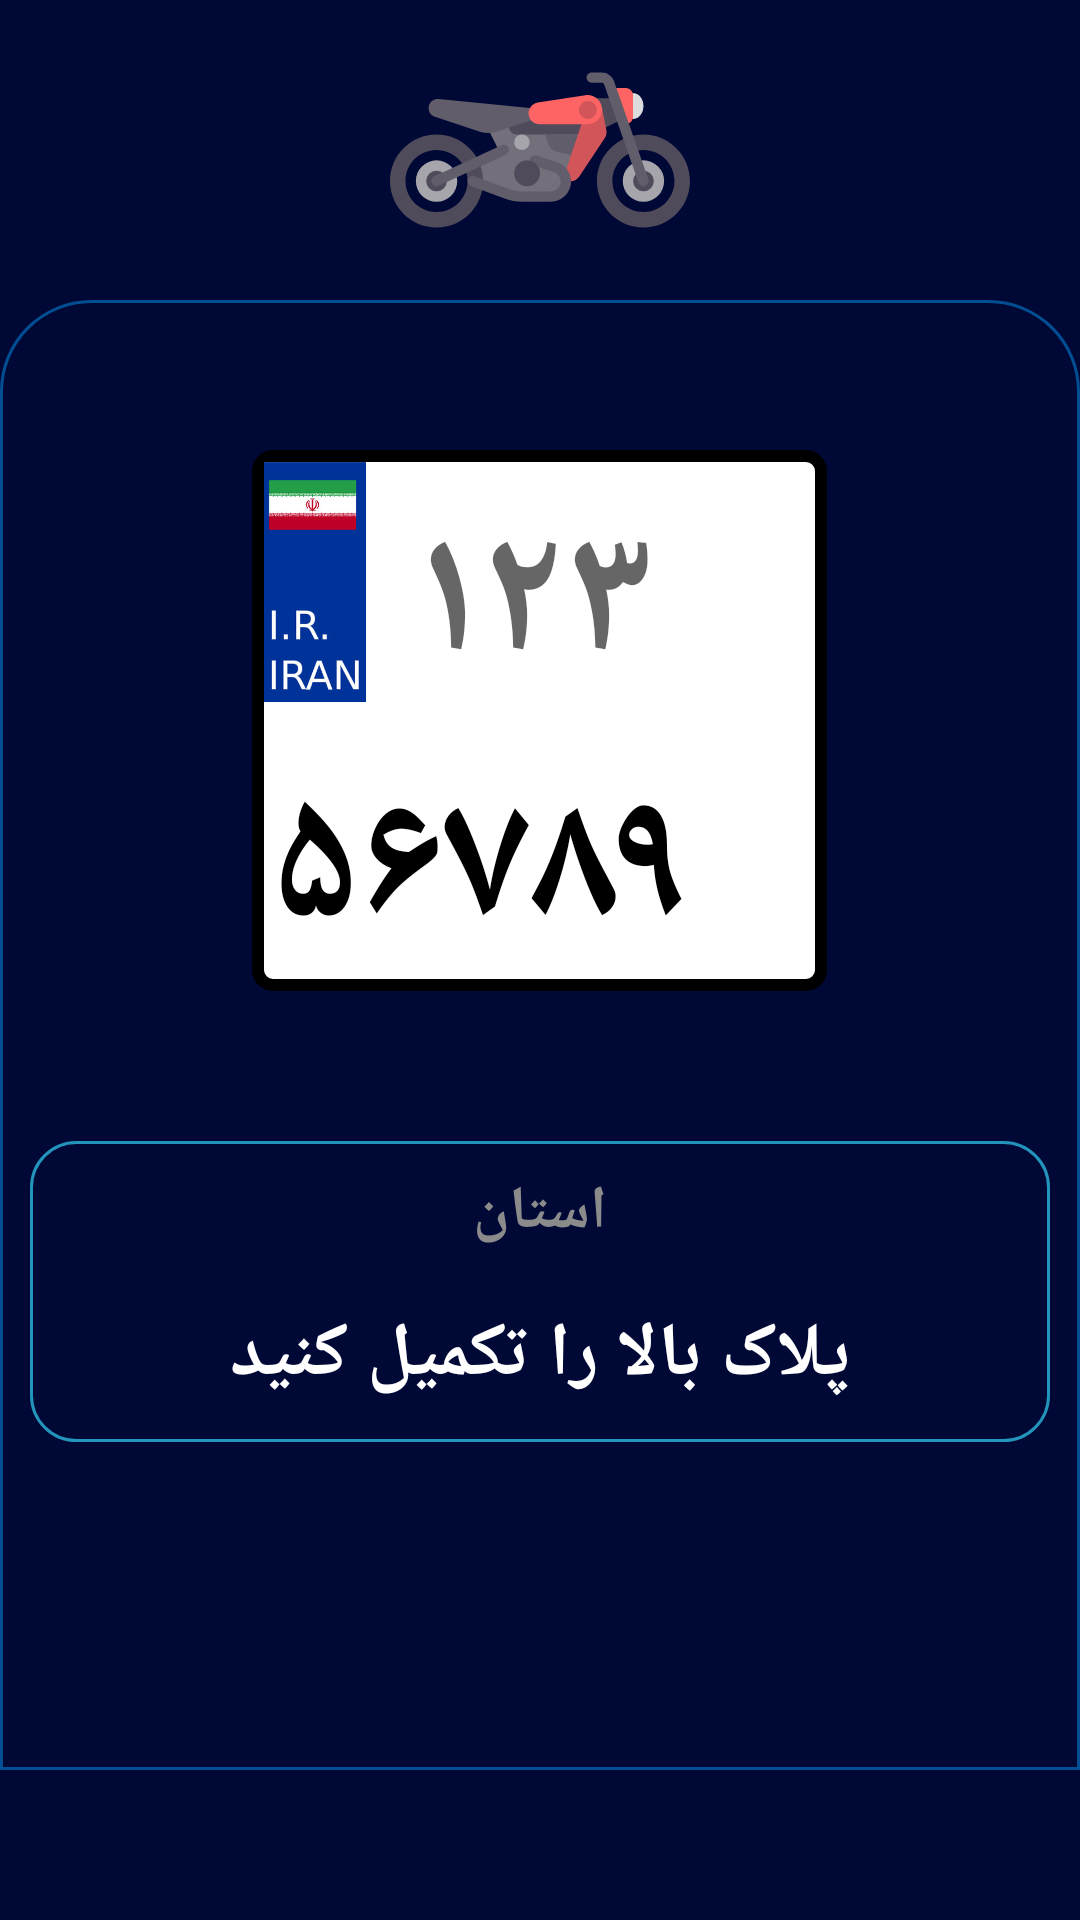

Where icons sit on this 1080×1920 app screen, as region(x1, y1, x2, y2):
motorcycle: region(390, 72, 690, 228)
